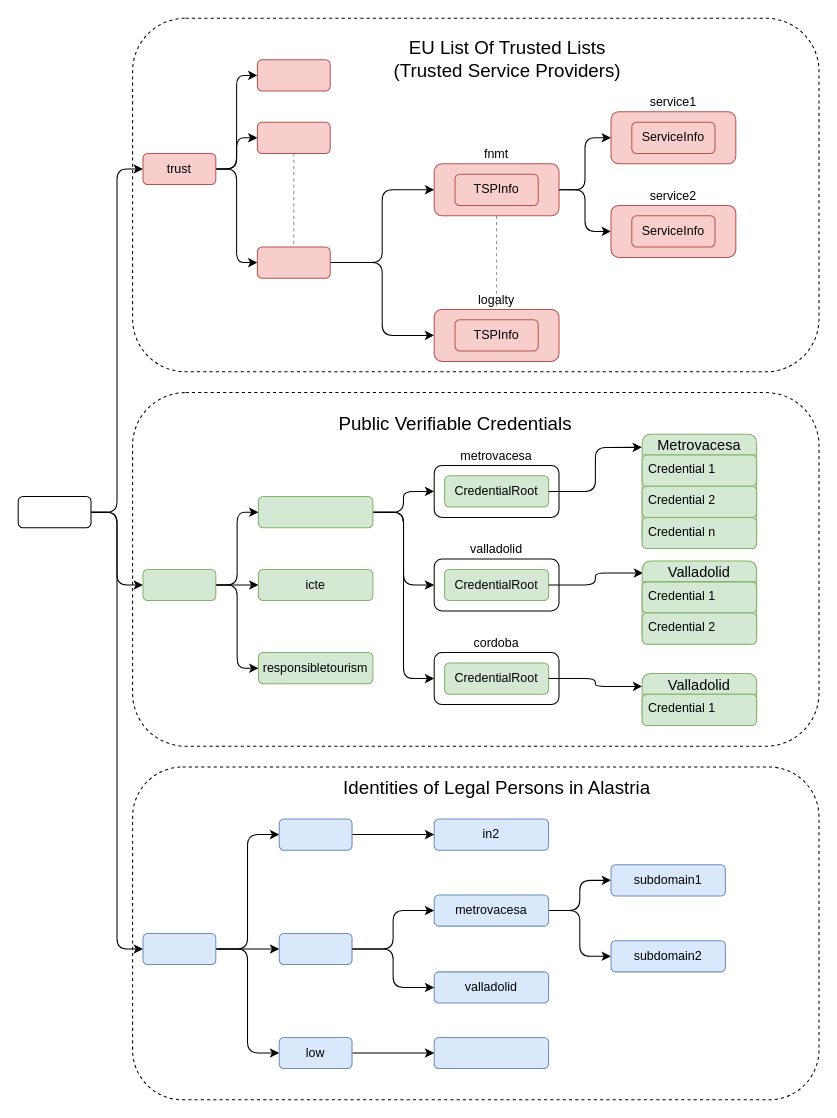
Some shapes in this 837 by 1118 pixel diagram are drawn without their labels. Each missing label, with the centre of its shape:
ala: the point at 179,948
at: the point at 293,75
de: the point at 293,137
deconfianza: the point at 315,512
es: the point at 293,262
high: the point at 315,834
medium: the point at 315,948
otros miembros: the point at 491,1052
pubcred: the point at 179,584
Root: the point at 54,512
